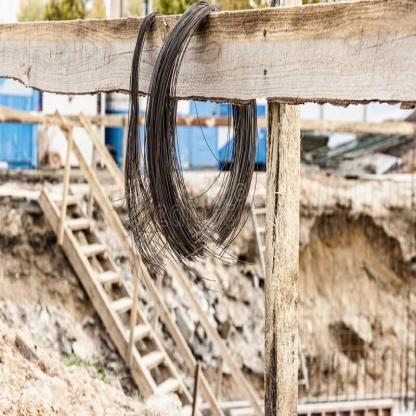rebar: (125, 0, 263, 298)
